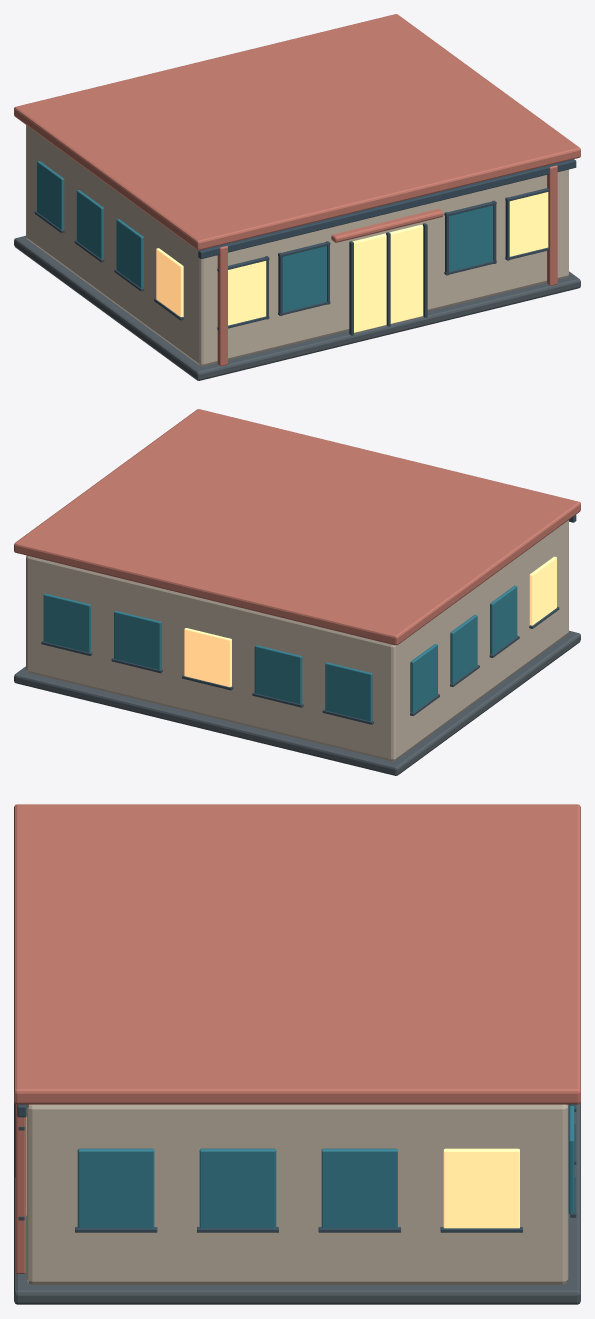
The model's file is SM_SolCity_BuildingBase_01.fbx.
The picture shows the model from 3 angles, top to bottom: view 1: azimuth 30°, elevation 25°; view 2: azimuth 150°, elevation 25°; view 3: azimuth 270°, elevation 25°; orthographic projection. The views are drawn at different scales.
Parts seen in each view (by area): view 1: Base_Top_Slab, Base_Wall, Base_Foundation, Base_Entry_Glass, Base_Front_Band, BaseFront_Glass_+2.60_2.25, BaseFront_Glass_-2.60_2.25, BaseFront_Glass_+4.50_2.25, BaseFront_Glass_-4.50_2.25, BaseSide_-1_Glass_+1.10_2.20, BaseSide_-1_Glass_+3.25_2.20, BaseSide_-1_Glass_-1.05_2.20 (+7 smaller); view 2: Base_Top_Slab, Base_Wall, Base_Foundation, BaseBack_Glass_-2.20_2.10, BaseBack_Glass_+2.20_2.10, BaseBack_Glass_-4.40_2.10, BaseBack_Glass_+4.40_2.10, BaseBack_Glass_+0.00_2.10, BaseSide_-1_Glass_-1.05_2.20, BaseSide_-1_Glass_+1.10_2.20, BaseSide_-1_Glass_-3.20_2.20, BaseSide_-1_Glass_+3.25_2.20; view 3: Base_Top_Slab, Base_Wall, Base_Foundation, BaseSide_+1_Glass_-1.05_2.20, BaseSide_+1_Glass_-3.20_2.20, BaseSide_+1_Glass_+3.25_2.20, BaseSide_+1_Glass_+1.10_2.20, Base_Front_Pilaster_+5.15, BaseBack_Glass_+4.40_2.10.
Part boxes in pixels (x1,y1,x2,y2): Base_Top_Slab: (14, 14, 580, 250); Base_Wall: (26, 125, 568, 366); Base_Foundation: (14, 235, 580, 380); Base_Entry_Glass: (352, 224, 423, 332); Base_Front_Band: (198, 159, 576, 258); BaseFront_Glass_+2.60_2.25: (449, 205, 493, 271); BaseFront_Glass_-2.60_2.25: (282, 246, 326, 311); BaseFront_Glass_+4.50_2.25: (509, 192, 548, 256); BaseFront_Glass_-4.50_2.25: (228, 261, 266, 325); BaseSide_-1_Glass_+1.10_2.20: (76, 190, 103, 258); BaseSide_-1_Glass_+3.25_2.20: (37, 161, 64, 229); BaseSide_-1_Glass_-1.05_2.20: (116, 219, 143, 287); Base_Top_Slab: (14, 409, 580, 645); Base_Wall: (26, 520, 568, 761); Base_Foundation: (14, 630, 580, 775); BaseBack_Glass_-2.20_2.10: (254, 645, 302, 704); BaseBack_Glass_+2.20_2.10: (114, 610, 161, 669); BaseBack_Glass_-4.40_2.10: (325, 662, 372, 721); BaseBack_Glass_+4.40_2.10: (43, 593, 90, 652); BaseBack_Glass_+0.00_2.10: (184, 628, 231, 686); BaseSide_-1_Glass_-1.05_2.20: (490, 585, 517, 654); BaseSide_-1_Glass_+1.10_2.20: (450, 614, 477, 683); BaseSide_-1_Glass_-3.20_2.20: (529, 556, 556, 625); BaseSide_-1_Glass_+3.25_2.20: (410, 644, 437, 712); Base_Top_Slab: (14, 804, 580, 1104); Base_Wall: (26, 1104, 568, 1284); Base_Foundation: (14, 1102, 580, 1304); BaseSide_+1_Glass_-1.05_2.20: (199, 1148, 276, 1228); BaseSide_+1_Glass_-3.20_2.20: (77, 1148, 154, 1228); BaseSide_+1_Glass_+3.25_2.20: (443, 1148, 519, 1228); BaseSide_+1_Glass_+1.10_2.20: (321, 1148, 397, 1228); Base_Front_Pilaster_+5.15: (15, 1104, 25, 1273); BaseBack_Glass_+4.40_2.10: (568, 1106, 574, 1213).
Bounding box in the file's own units: 12 × 10 × 4.2.
